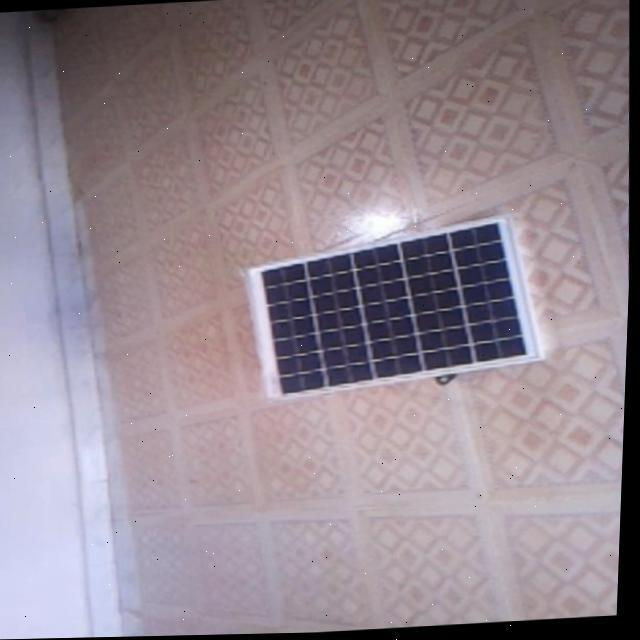Normal Solar Panel: (243, 217, 550, 400)
